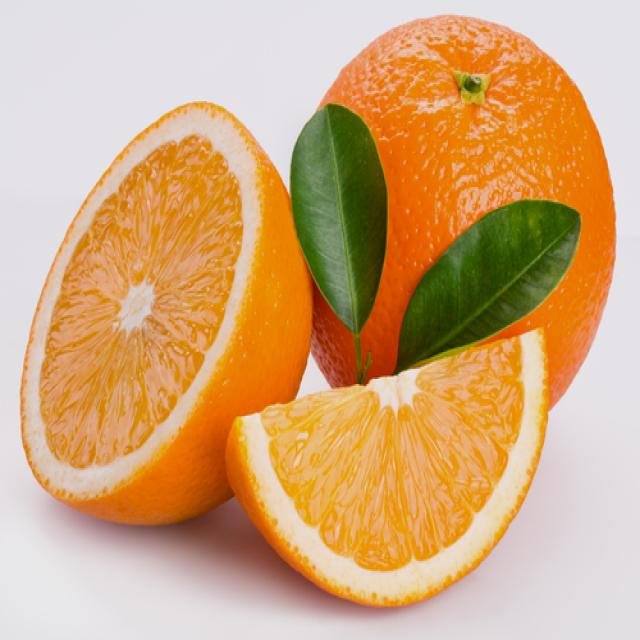orange: (11, 69, 316, 550), (300, 7, 623, 394), (217, 315, 555, 628)
